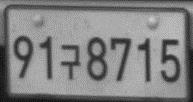1: (137, 37, 152, 84), (38, 34, 53, 80)
5: (159, 38, 181, 84)
7: (108, 37, 132, 81)
8: (86, 36, 109, 81)
9: (12, 35, 34, 80)
구: (58, 43, 82, 81)
